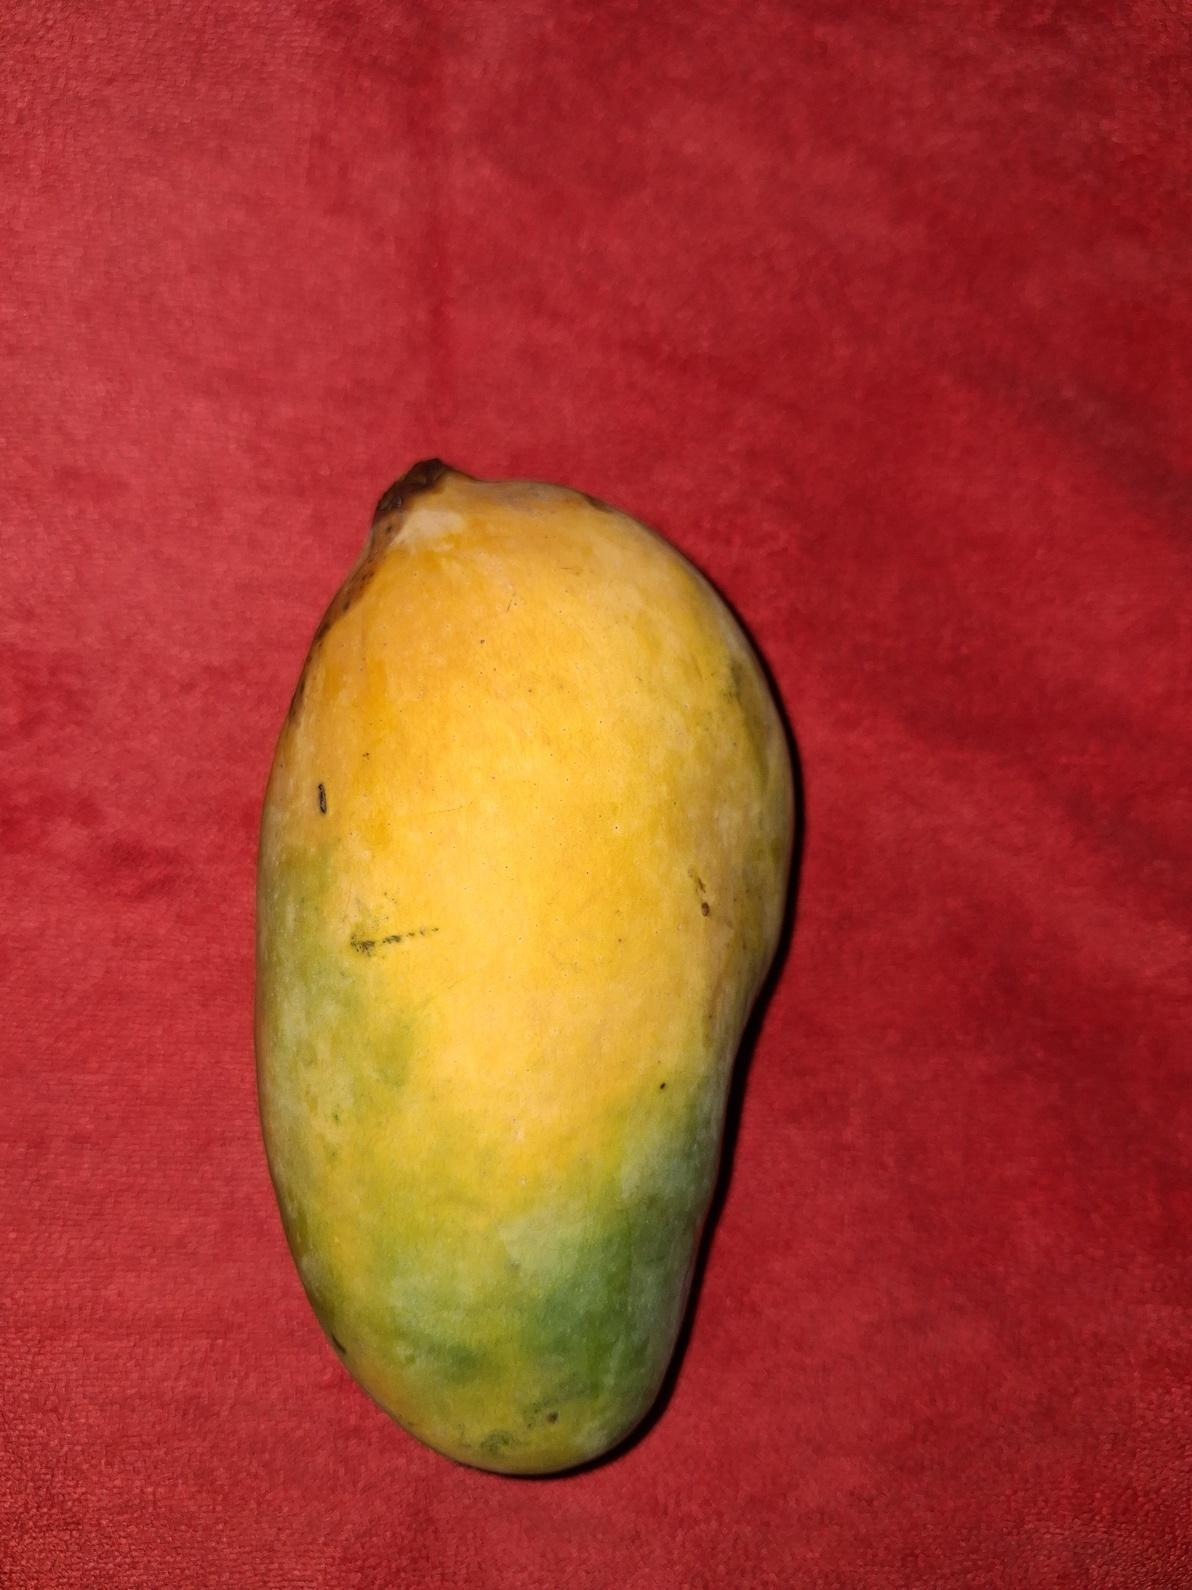mango: (250, 454, 796, 1477)
